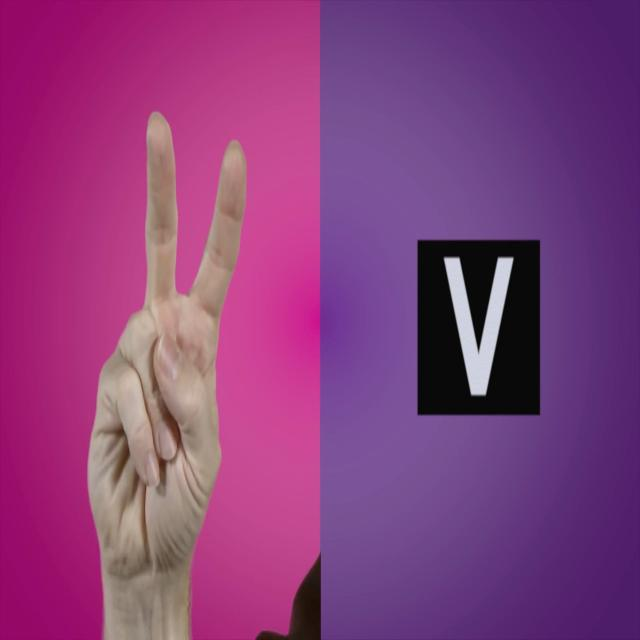V: (76, 77, 256, 640)
